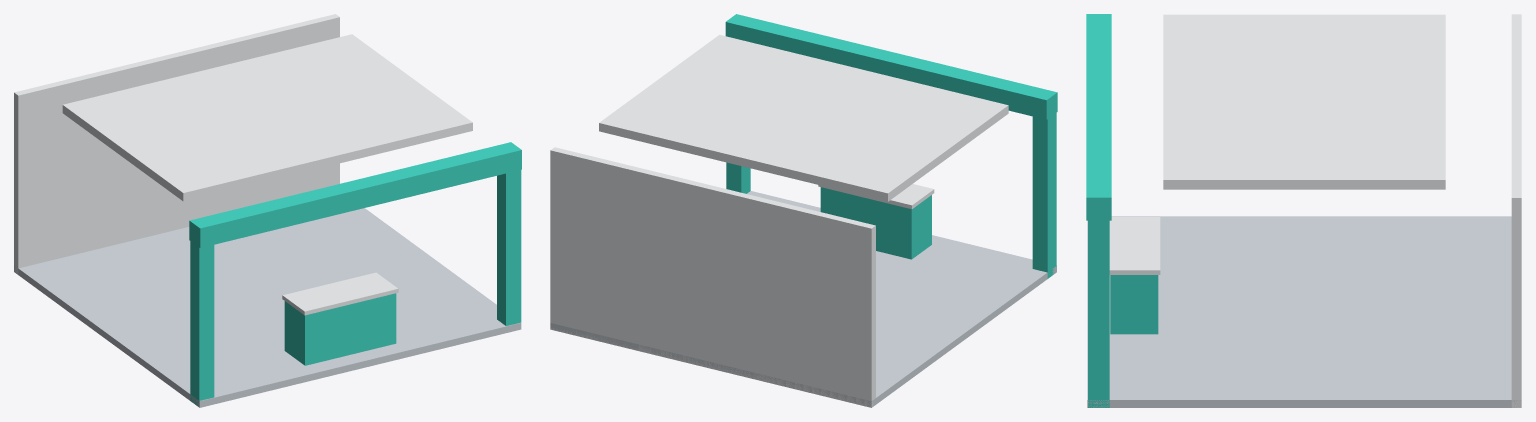
3 views of the same model, side by side, from view 1: azimuth 30°, elevation 25°; view 2: azimuth 150°, elevation 25°; view 3: azimuth 270°, elevation 25° (orthographic). The views are drawn at different scales.
Visible parts, largest first — view 1: Exhibition Booth Concept; view 2: Exhibition Booth Concept; view 3: Exhibition Booth Concept.
Boxes of the visible parts, x1,y1,x2,y2 form: Exhibition Booth Concept: [14, 14, 521, 407]; Exhibition Booth Concept: [550, 14, 1057, 407]; Exhibition Booth Concept: [1086, 14, 1521, 407].
Bounding box in the file's own units: 6 × 3.34 × 6.02.
